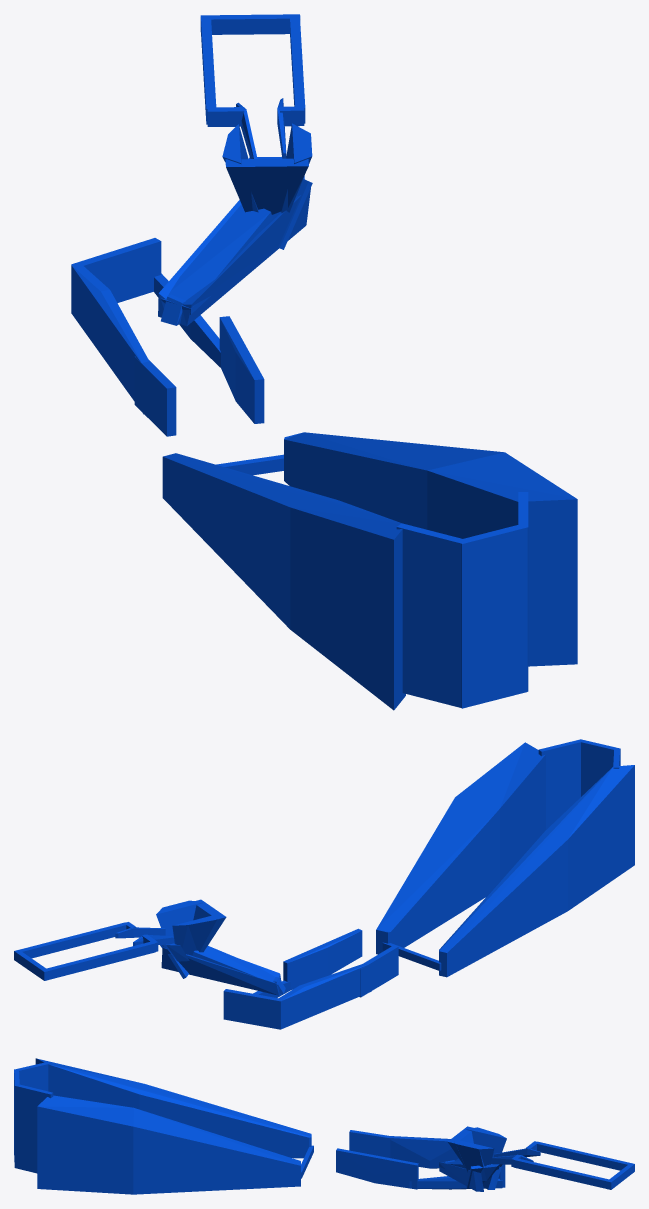
File: hole-five-walls-v5.glb
3 views of the same model, one above another, from view 1: azimuth 30°, elevation 25°; view 2: azimuth 150°, elevation 25°; view 3: azimuth 270°, elevation 25° (orthographic). The views are drawn at different scales.
Parts seen in each view (by area): view 1: hole 5 green.006, hole 5 green.012, hole 5 walls.039, hole 5 walls.038, hole 5 walls.017, hole 5 walls.004, hole 5 walls.006, hole 5 walls.002, hole 5 walls.019, hole 5 walls.021, hole 5 walls.020, hole 5 walls.012 (+4 smaller); view 2: hole 5 green.012, hole 5 green.006, hole 5 walls.017, hole 5 walls.037, hole 5 walls.021, hole 5 walls.019, hole 5 walls.007, hole 5 walls.010, hole 5 walls.039, hole 5 walls.020, hole 5 walls.011, hole 5 walls.005 (+6 smaller); view 3: hole 5 green.012, hole 5 green.006, hole 5 walls.021, hole 5 walls.037, hole 5 walls.017, hole 5 walls.011, hole 5 walls.010, hole 5 walls.020, hole 5 walls.003, hole 5 walls.038, hole 5 walls.006, hole 5 walls.018 (+6 smaller).
Part boxes in pixels (bbox=[...]): hole 5 green.006: bbox=[162, 453, 405, 710]; hole 5 green.012: bbox=[284, 432, 577, 666]; hole 5 walls.039: bbox=[457, 523, 527, 708]; hole 5 walls.038: bbox=[396, 523, 467, 707]; hole 5 walls.017: bbox=[71, 263, 148, 414]; hole 5 walls.004: bbox=[161, 204, 272, 314]; hole 5 walls.006: bbox=[180, 188, 310, 326]; hole 5 walls.002: bbox=[225, 158, 308, 214]; hole 5 walls.019: bbox=[71, 238, 161, 302]; hole 5 walls.021: bbox=[219, 316, 264, 423]; hole 5 walls.020: bbox=[134, 356, 176, 436]; hole 5 walls.012: bbox=[200, 14, 300, 34]; hole 5 green.012: bbox=[376, 742, 545, 954]; hole 5 green.006: bbox=[439, 765, 634, 977]; hole 5 walls.017: bbox=[277, 963, 371, 1029]; hole 5 walls.037: bbox=[538, 739, 583, 829]; hole 5 walls.021: bbox=[283, 928, 362, 989]; hole 5 walls.019: bbox=[223, 989, 282, 1029]; hole 5 walls.007: bbox=[161, 947, 279, 995]; hole 5 walls.010: bbox=[44, 941, 155, 979]; hole 5 walls.039: bbox=[578, 739, 620, 796]; hole 5 walls.020: bbox=[359, 945, 398, 997]; hole 5 walls.011: bbox=[16, 922, 127, 958]; hole 5 walls.005: bbox=[172, 914, 218, 955]; hole 5 green.012: bbox=[37, 1095, 300, 1194]; hole 5 green.006: bbox=[35, 1058, 311, 1158]; hole 5 walls.021: bbox=[336, 1148, 418, 1189]; hole 5 walls.037: bbox=[14, 1084, 53, 1173]; hole 5 walls.017: bbox=[388, 1136, 458, 1168]; hole 5 walls.011: bbox=[514, 1158, 608, 1188]; hole 5 walls.010: bbox=[537, 1141, 632, 1170]; hole 5 walls.020: bbox=[349, 1130, 391, 1157]; hole 5 walls.003: bbox=[453, 1139, 494, 1172]; hole 5 walls.038: bbox=[15, 1062, 50, 1091]; hole 5 walls.006: bbox=[439, 1162, 483, 1191]; hole 5 walls.018: bbox=[409, 1176, 502, 1189].
Bounding box in the file's own units: 25.64 × 8.71 × 57.28.
